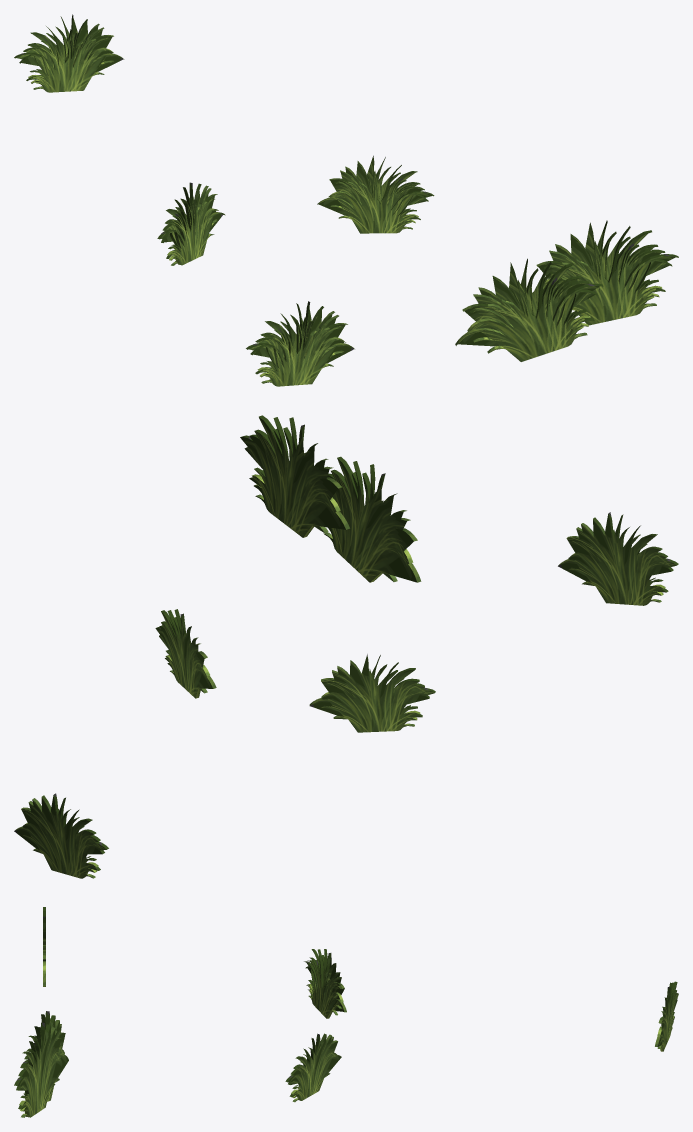
File: trava.fbx
3 views of the same model, one above another, from view 1: azimuth 30°, elevation 25°; view 2: azimuth 150°, elevation 25°; view 3: azimuth 270°, elevation 25° (orthographic). The views are drawn at different scales.
Parts seen in each view (by area): view 1: trava3, trava1, trava4, trava2, trava6, trava5; view 2: trava1, trava3, trava4, trava5, trava6, trava2; view 3: trava1, trava2, trava5, trava6, trava3.
Part boxes in pixels (x1,y1,x2,y2): trava3: (455,258,603,361); trava1: (532,220,678,325); trava4: (246,301,354,386); trava2: (317,155,434,233); trava6: (14,14,124,92); trava5: (157,182,225,265); trava1: (240,415,349,537); trava3: (323,456,421,582); trava4: (558,512,678,605); trava5: (309,654,435,732); trava6: (14,793,108,878); trava2: (155,609,216,698); trava1: (14,1022,64,1117); trava2: (285,1033,341,1102); trava5: (304,949,346,1018); trava6: (655,981,678,1051); trava3: (20,1011,68,1101).
Size of the model in its own units: 2662 by 769 by 4383.
